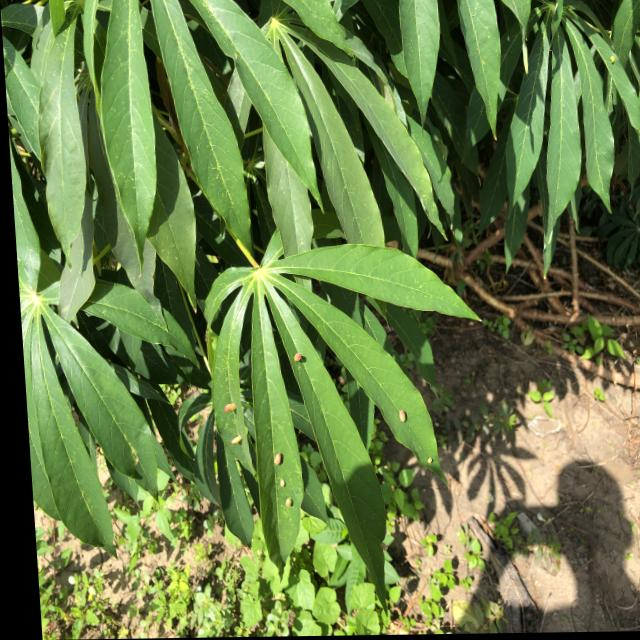Mosca: (265, 449, 298, 527), (217, 393, 247, 454), (286, 341, 319, 376), (394, 402, 418, 440), (600, 38, 623, 69)
